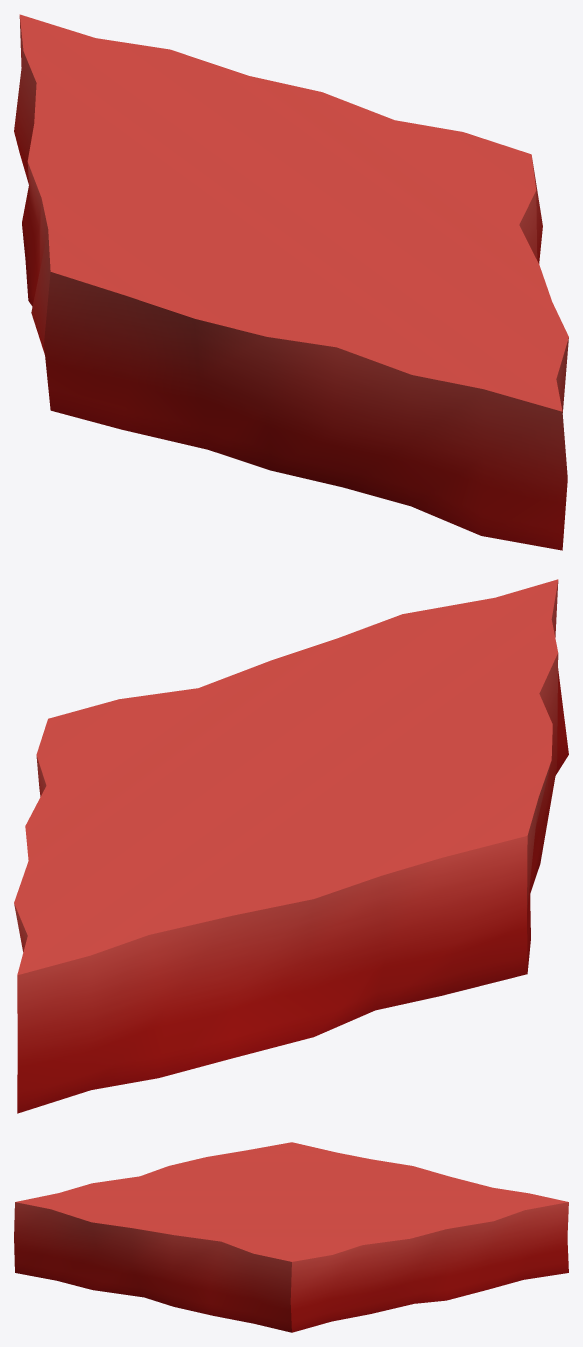
Rendered from m_Kashata01.fbx.
3 views of the same model, one above another, from view 1: azimuth 30°, elevation 25°; view 2: azimuth 150°, elevation 25°; view 3: azimuth 270°, elevation 25° (orthographic). The views are drawn at different scales.
Parts seen in each view (by area): view 1: m_Kashata01; view 2: m_Kashata01; view 3: m_Kashata01.
Boxes of the visible parts, box(x1,y1,x2,y2) form: m_Kashata01: box(14, 14, 568, 550); m_Kashata01: box(14, 579, 568, 1113); m_Kashata01: box(14, 1142, 568, 1332).
Size of the model in its own units: 5.31 by 1.42 by 10.12.
